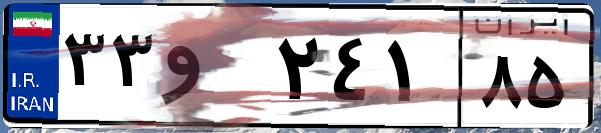1: (385, 28, 445, 110)
2: (270, 28, 330, 110)
3: (57, 26, 110, 100), (110, 28, 158, 98)
4: (330, 28, 385, 110)
5: (525, 38, 570, 115)
8: (475, 38, 525, 113)
و: (158, 20, 270, 120)
